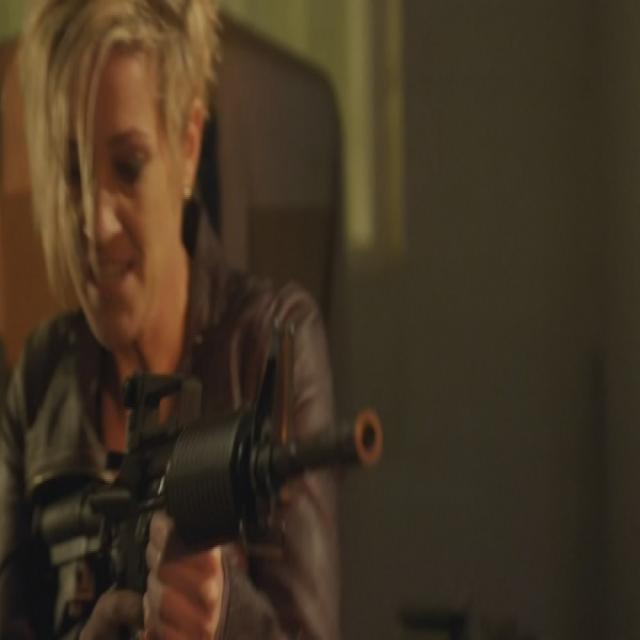rifle: (28, 362, 393, 633)
